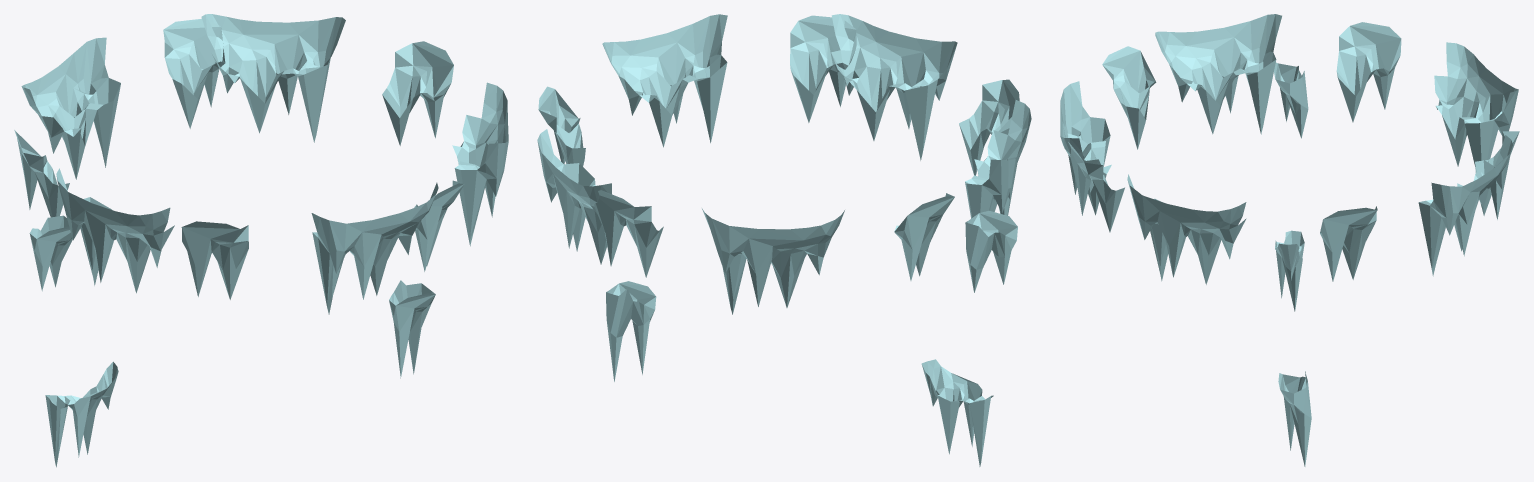
The model's file is cup_ice_001.fbx.
3 renders of one model, left to right at view 1: azimuth 30°, elevation 25°; view 2: azimuth 150°, elevation 25°; view 3: azimuth 270°, elevation 25°, orthographic. The views are drawn at different scales.
Visible parts, largest first — view 1: cup_ice_001; view 2: cup_ice_001; view 3: cup_ice_001.
Boxes of the visible parts, x1=… form: cup_ice_001: x1=14, y1=14, x2=508, y2=467; cup_ice_001: x1=537, y1=14, x2=1031, y2=466; cup_ice_001: x1=1060, y1=14, x2=1519, y2=466.
Size of the model in its own units: 1116 by 1077 by 739.
